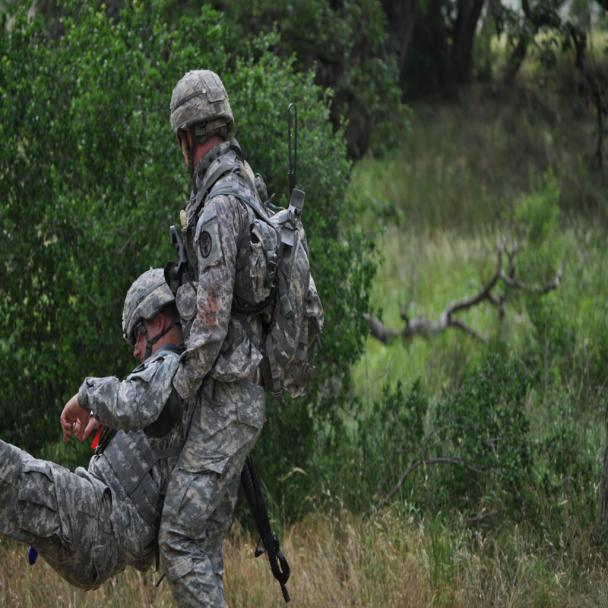Gun: (234, 458, 303, 607)
